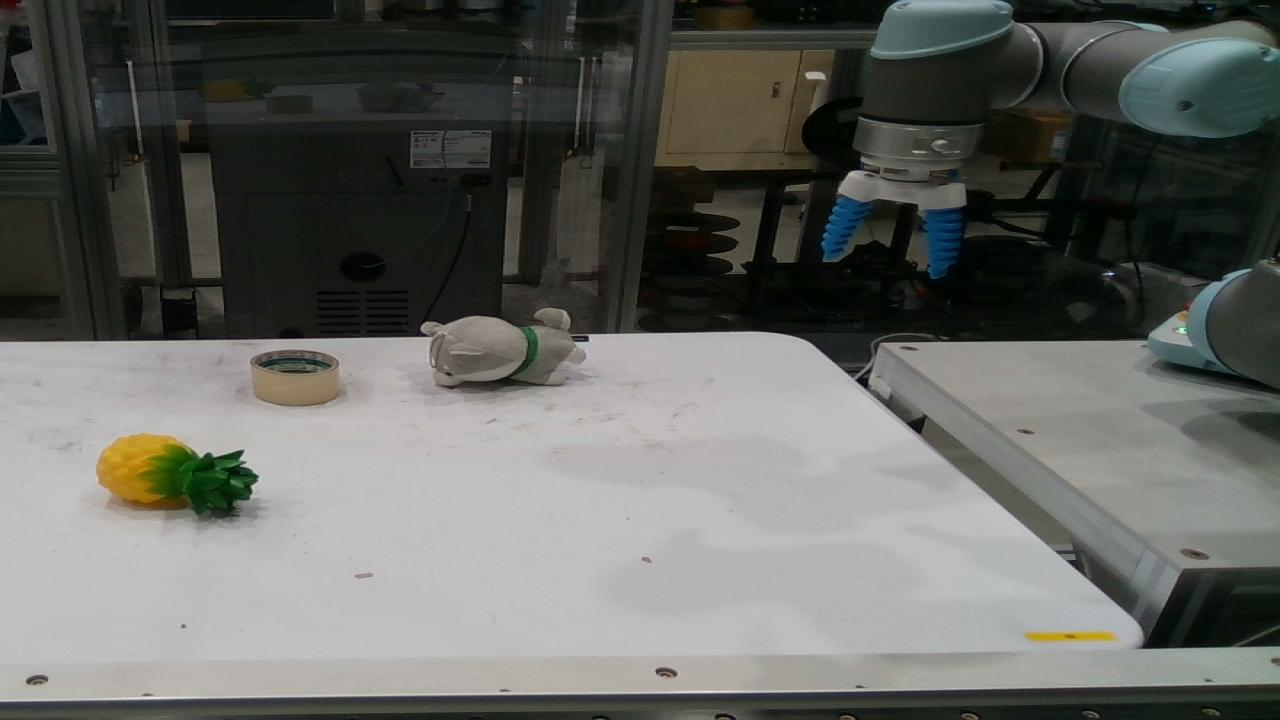UR5: (838, 0, 1279, 213), (1187, 234, 1279, 387)
gripper_left: (823, 196, 867, 260)
gripper_right: (923, 207, 960, 279)
target: (95, 433, 260, 518), (421, 308, 587, 388), (250, 349, 340, 405)
